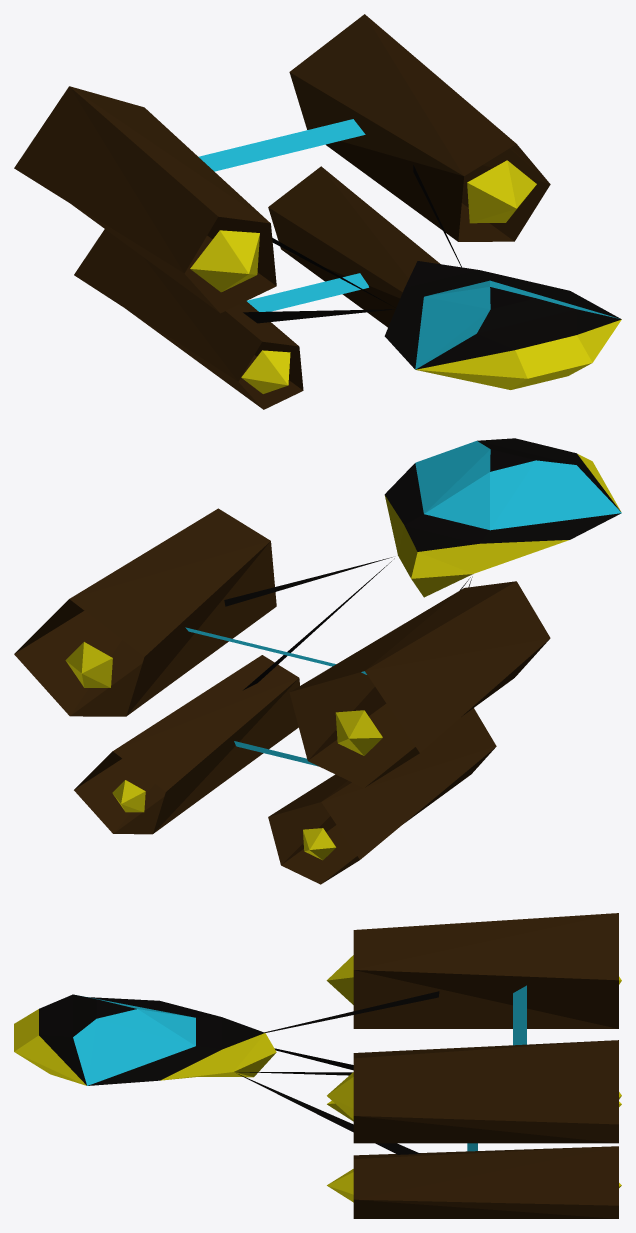
The model's file is Pod4.obj.
The picture shows the model from 3 angles, top to bottom: view 1: azimuth 30°, elevation 25°; view 2: azimuth 150°, elevation 25°; view 3: azimuth 270°, elevation 25°; orthographic projection. The views are drawn at different scales.
Visible parts, largest first — view 1: Engine_R.001_Cube.002_Engine.001, Engine_R_Cube.001_Engine, Body_Cube_Complement, Body_Cube_Glass, Engine_R.001_Cube.002_BaseColor.001, Body_Cube_BaseColor, Engine_R_Cube.001_BaseColor; view 2: Engine_R.001_Cube.002_Engine.001, Engine_R_Cube.001_Engine, Body_Cube_Glass, Body_Cube_Complement, Body_Cube_BaseColor, Engine_R.001_Cube.002_BaseColor.001, Engine_R_Cube.001_BaseColor; view 3: Engine_R.001_Cube.002_Engine.001, Engine_R_Cube.001_Engine, Body_Cube_Complement, Body_Cube_Glass, Body_Cube_BaseColor, Engine_R.001_Cube.002_BaseColor.001, Engine_R_Cube.001_BaseColor.
Part boxes in pixels (bbox=[...]): Engine_R.001_Cube.002_Engine.001: bbox=[14, 14, 550, 313]; Engine_R_Cube.001_Engine: bbox=[74, 166, 440, 409]; Body_Cube_Complement: bbox=[243, 165, 621, 369]; Body_Cube_Glass: bbox=[198, 119, 619, 369]; Engine_R.001_Cube.002_BaseColor.001: bbox=[190, 160, 536, 292]; Body_Cube_BaseColor: bbox=[415, 319, 621, 389]; Engine_R_Cube.001_BaseColor: bbox=[241, 350, 290, 393]; Engine_R.001_Cube.002_Engine.001: bbox=[14, 508, 550, 787]; Engine_R_Cube.001_Engine: bbox=[74, 655, 496, 884]; Body_Cube_Glass: bbox=[185, 441, 621, 766]; Body_Cube_Complement: bbox=[224, 438, 620, 690]; Body_Cube_BaseColor: bbox=[384, 454, 620, 597]; Engine_R.001_Cube.002_BaseColor.001: bbox=[65, 642, 382, 755]; Engine_R_Cube.001_BaseColor: bbox=[112, 780, 335, 860]; Engine_R.001_Cube.002_Engine.001: bbox=[353, 913, 618, 1143]; Engine_R_Cube.001_Engine: bbox=[353, 1146, 618, 1218]; Body_Cube_Complement: bbox=[39, 991, 439, 1154]; Body_Cube_Glass: bbox=[73, 985, 526, 1151]; Body_Cube_BaseColor: bbox=[14, 1009, 276, 1085]; Engine_R.001_Cube.002_BaseColor.001: bbox=[326, 955, 621, 1119]; Engine_R_Cube.001_BaseColor: bbox=[327, 1101, 621, 1202].
Size of the model in its own units: 14.1 by 7.45 by 20.75.
